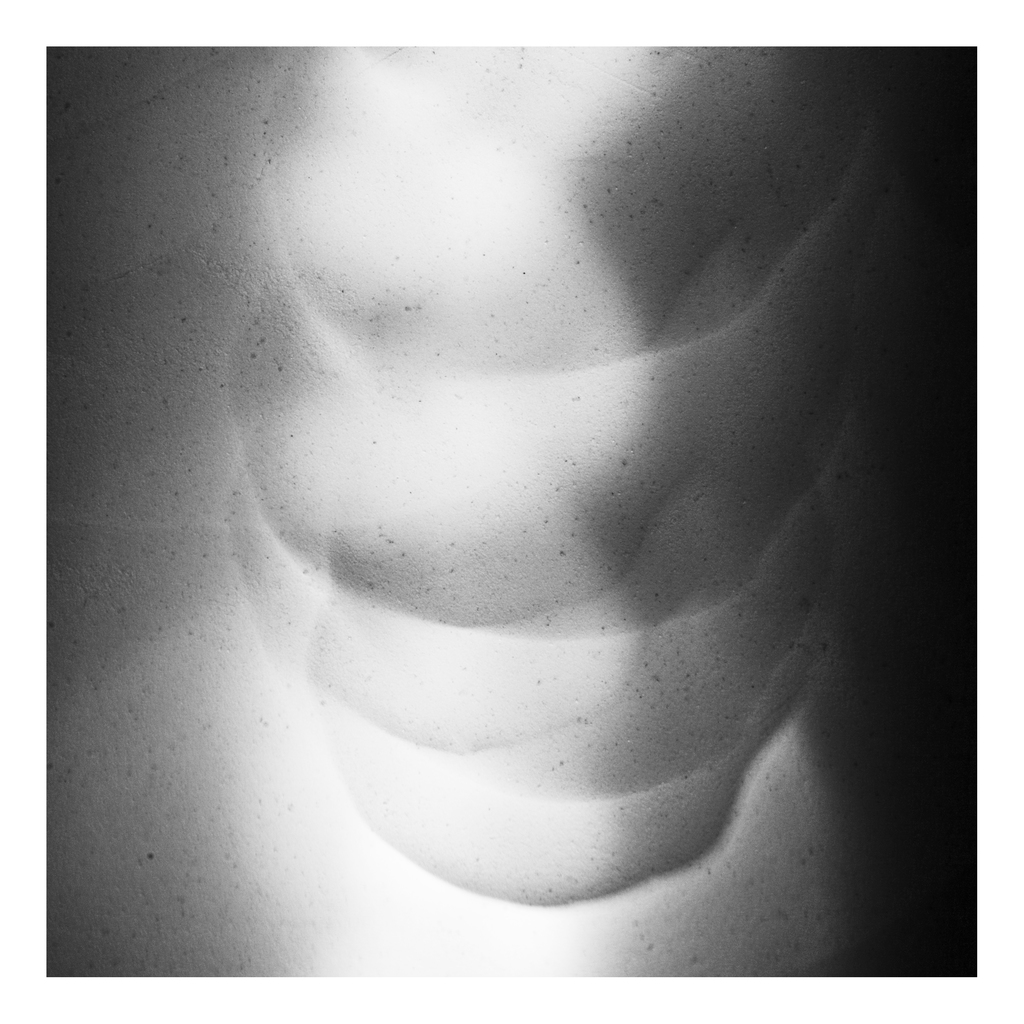face: (270, 79, 638, 662)
